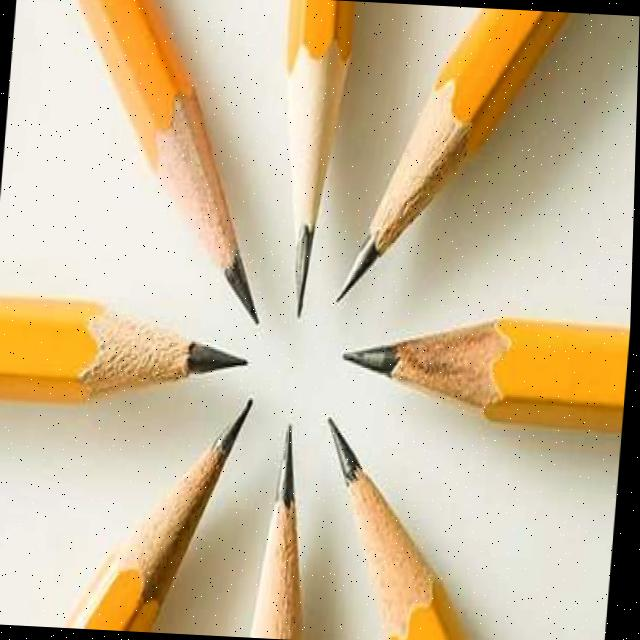pencil: (333, 8, 575, 311), (71, 0, 266, 341), (58, 386, 263, 633), (331, 300, 633, 452), (328, 405, 488, 640), (0, 287, 271, 412), (280, 0, 361, 343), (245, 404, 323, 640)
